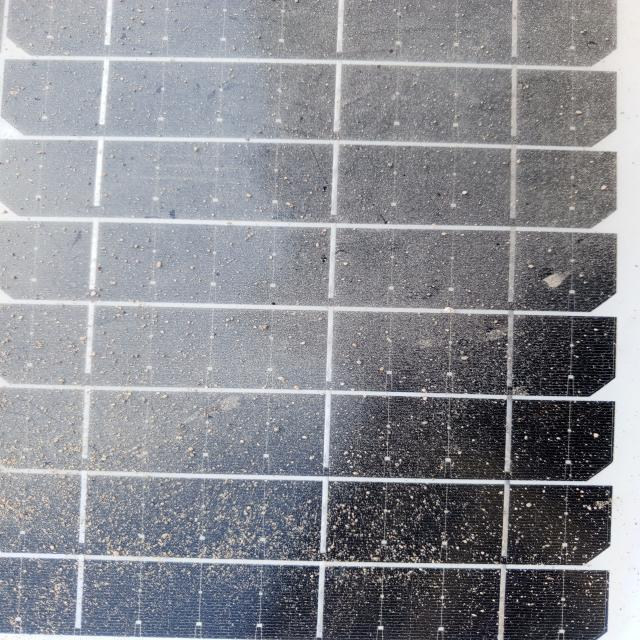Anomaly Solar Panel: (1, 0, 613, 633)
Surface Contaminant: (35, 56, 639, 639)
